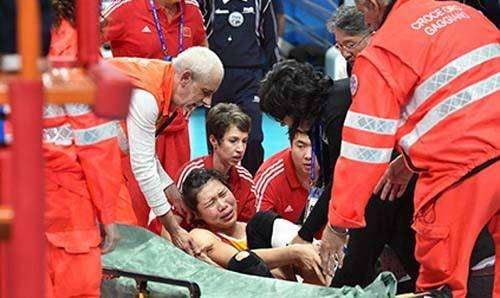fall: (162, 148, 397, 298)
